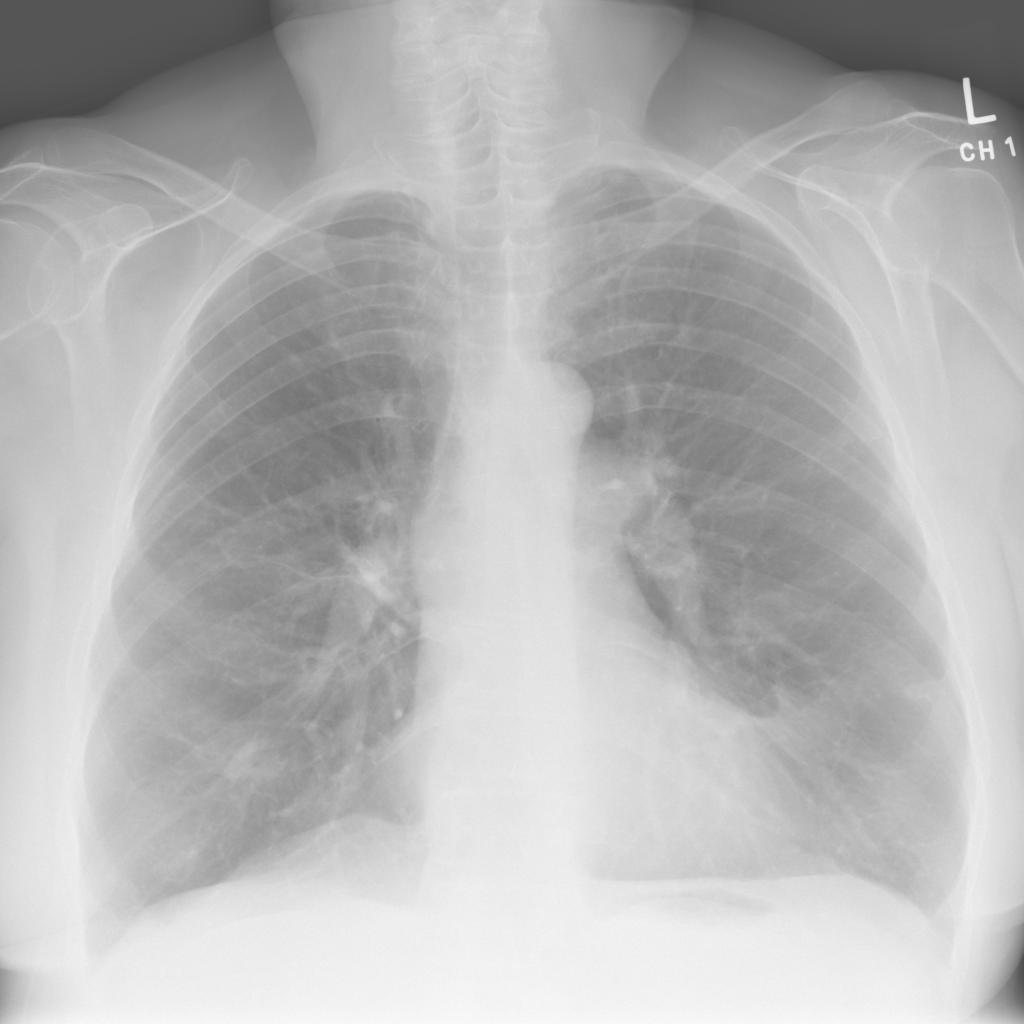Nodule: (240, 166, 275, 206)
